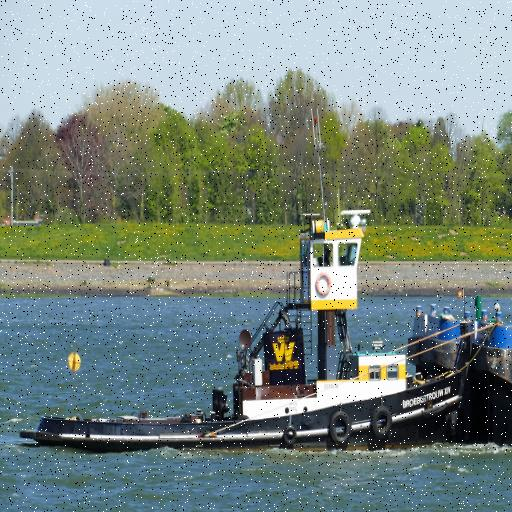tugboat: (17, 206, 480, 460)
